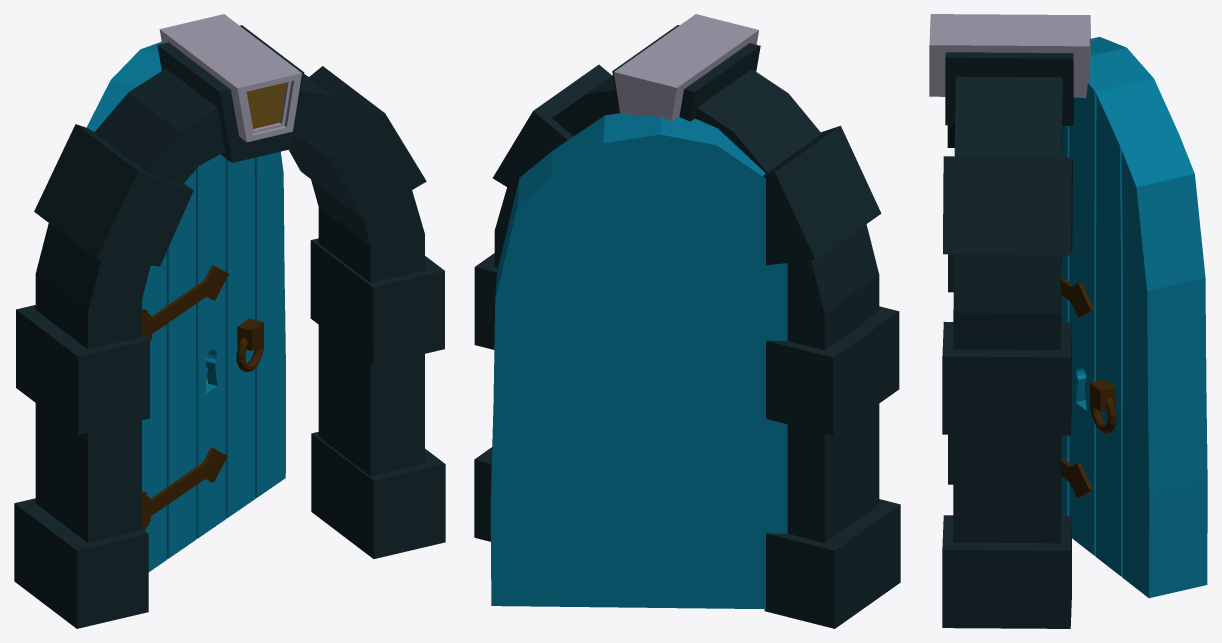
The model's file is Door - Kopie.fbx.
The picture shows the model from 3 angles, left to right: view 1: azimuth 30°, elevation 25°; view 2: azimuth 150°, elevation 25°; view 3: azimuth 270°, elevation 25°; orthographic projection.
Visible parts, largest first — view 1: DoorFrame, DoorWing; view 2: DoorWing, DoorFrame; view 3: DoorFrame, DoorWing.
Part boxes in pixels (x1,y1,x2,y2): DoorFrame: (14, 14, 445, 628); DoorWing: (86, 41, 285, 571); DoorWing: (490, 113, 787, 609); DoorFrame: (474, 14, 900, 628); DoorFrame: (929, 14, 1090, 628); DoorWing: (1061, 37, 1207, 598).
Size of the model in its own units: 709 by 942 by 466.
